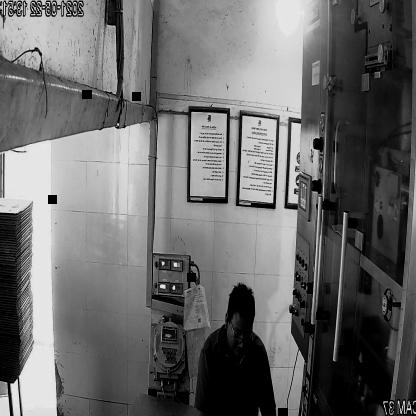goggles: (226, 325, 258, 353)
